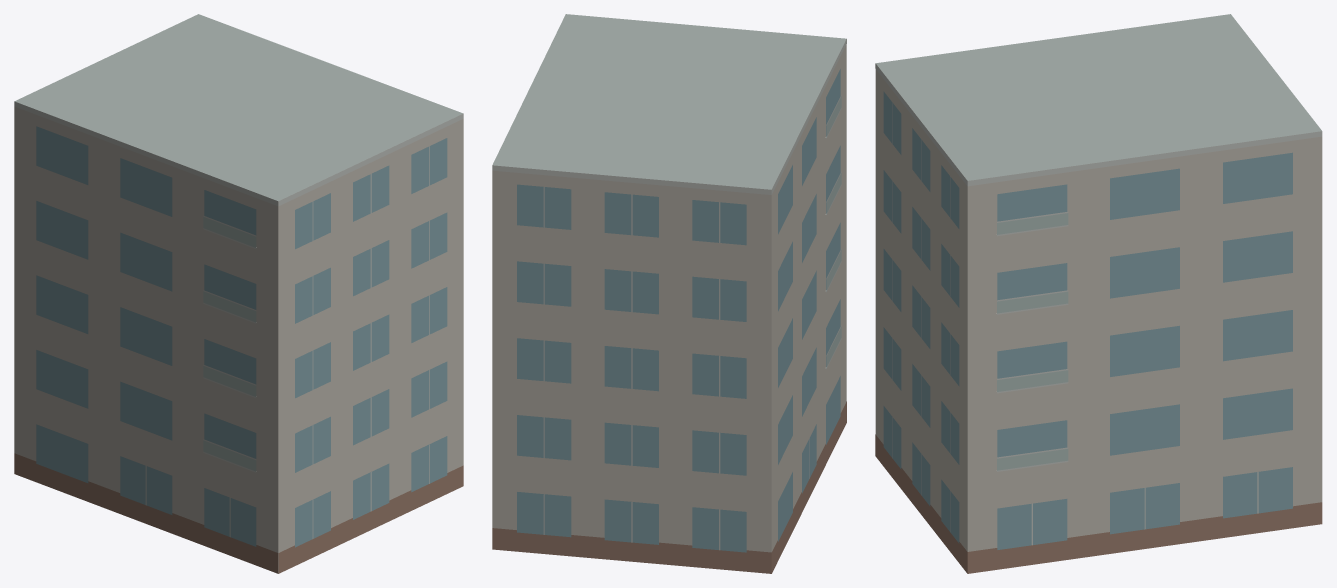
Rendered from survey-upis-32749589.glb.
3 renders of one model, left to right at view 1: azimuth 30°, elevation 25°; view 2: azimuth 150°, elevation 25°; view 3: azimuth 270°, elevation 25°, orthographic. The views are drawn at different scales.
Parts seen in each view (by area): view 1: survey-upis-32749589.tmp; view 2: survey-upis-32749589.tmp; view 3: survey-upis-32749589.tmp.
Part boxes in pixels (<box>): survey-upis-32749589.tmp: <box>14,14,463,573</box>; survey-upis-32749589.tmp: <box>492,14,846,573</box>; survey-upis-32749589.tmp: <box>875,14,1322,573</box>.
Bounding box in the file's own units: 16.18 × 17.74 × 18.3.
